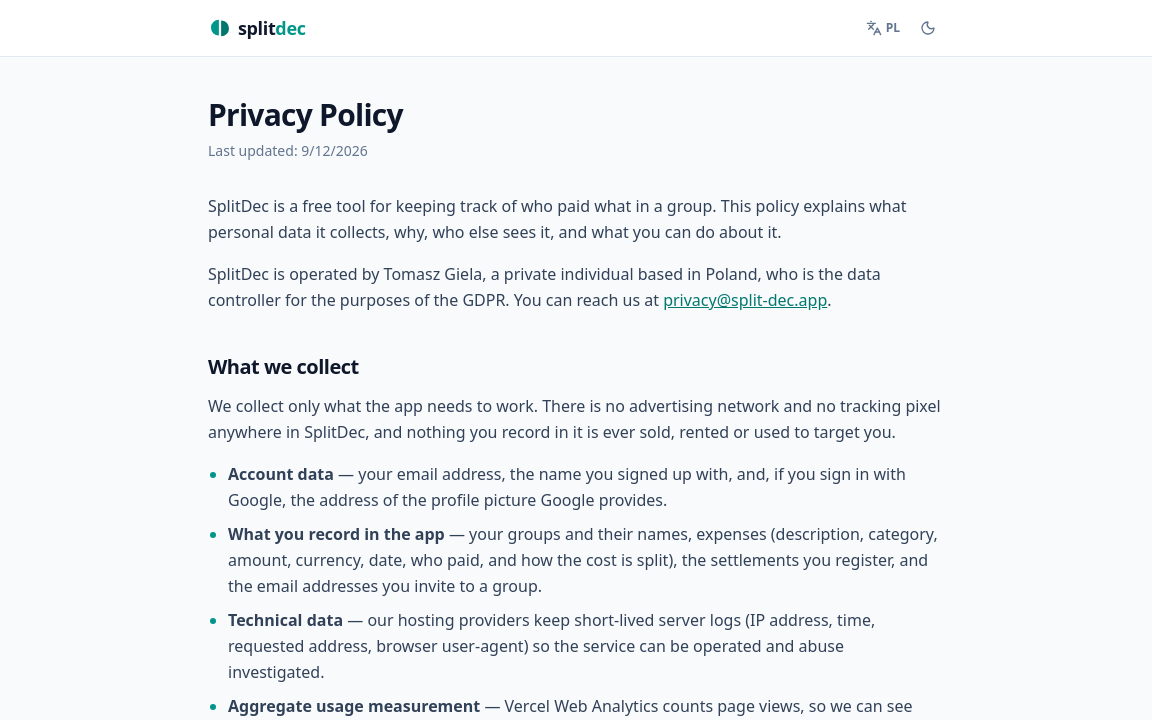
LegalPage › switches the whole document to Polish
The image size is (1152, 720).
Click the button "PL" at (883, 28), box [858,12,908,44]
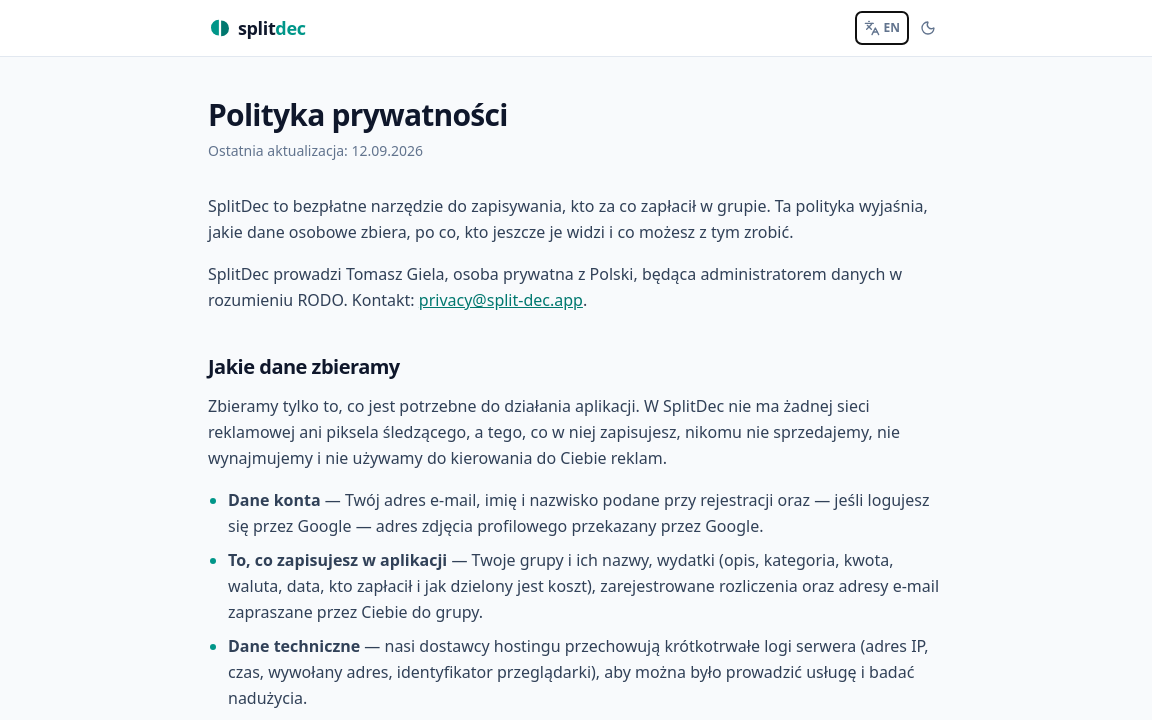
Expected: the heading "Polityka prywatności" is shown, [208,94,508,135]
Expected: the text "Ostatnia aktualizacja: 12.09.2026" is shown, [208,141,423,160]
